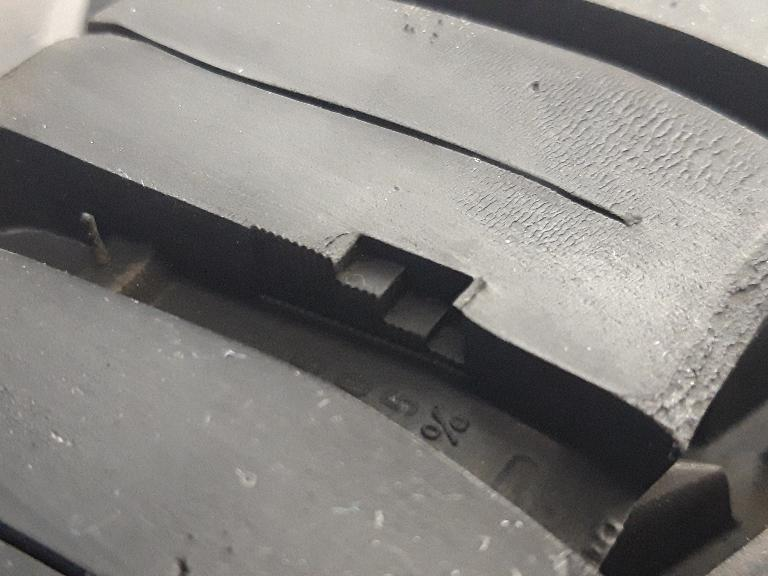temoin:75: (288, 216, 494, 401)
